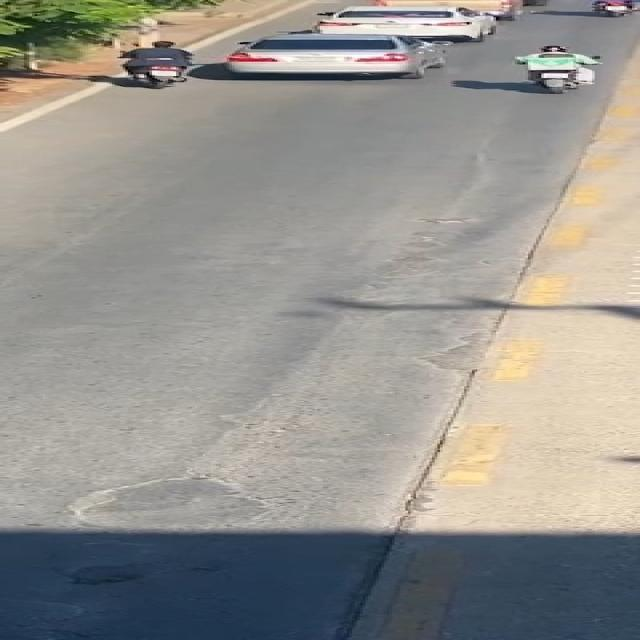car: (214, 32, 468, 80), (286, 4, 507, 38)
